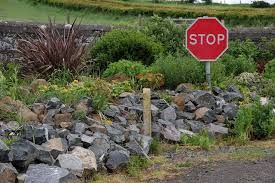stop_sign: (185, 18, 228, 62)
